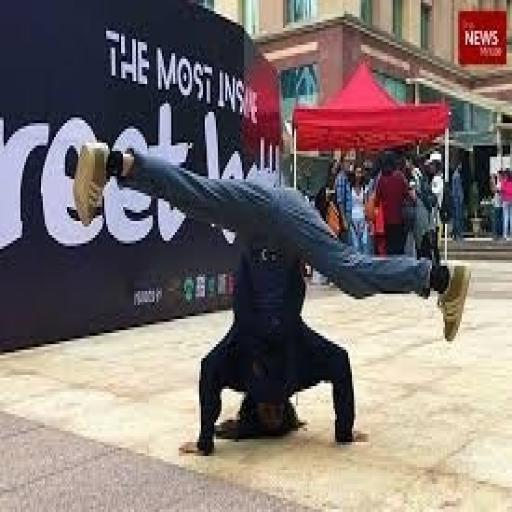dancing: (67, 134, 473, 459)
